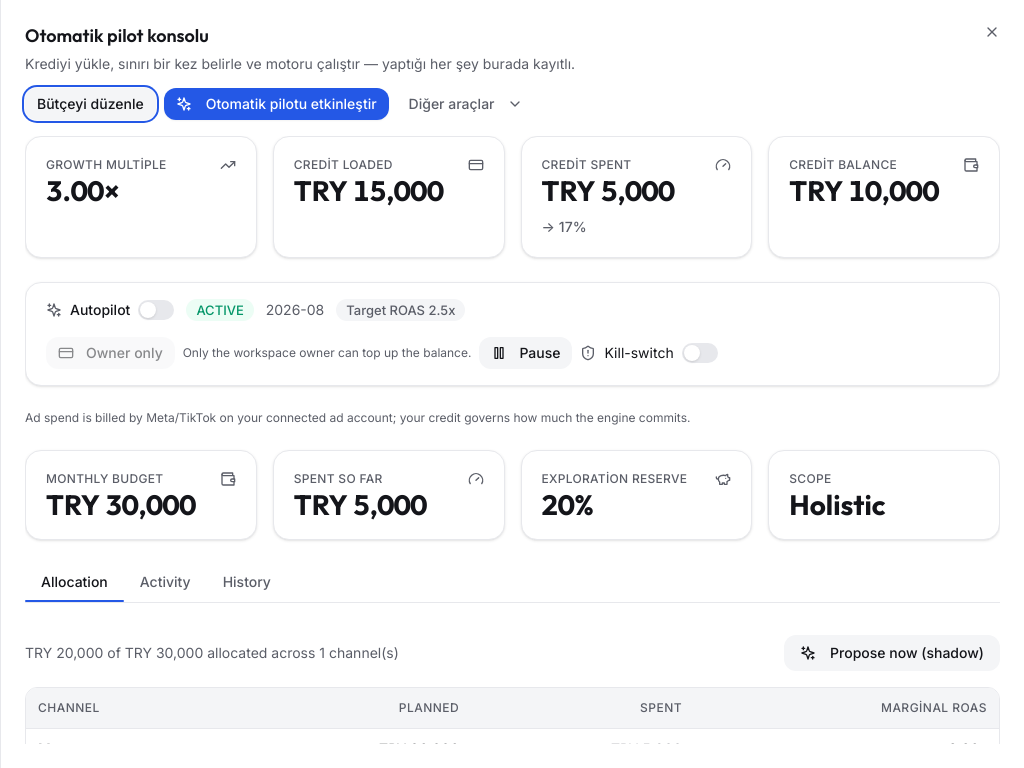
it: StudioToolsDrawer › lists every deep link, with its exact href
Click the button "Diğer araçlar" at (466, 104), box [397,88,534,120]
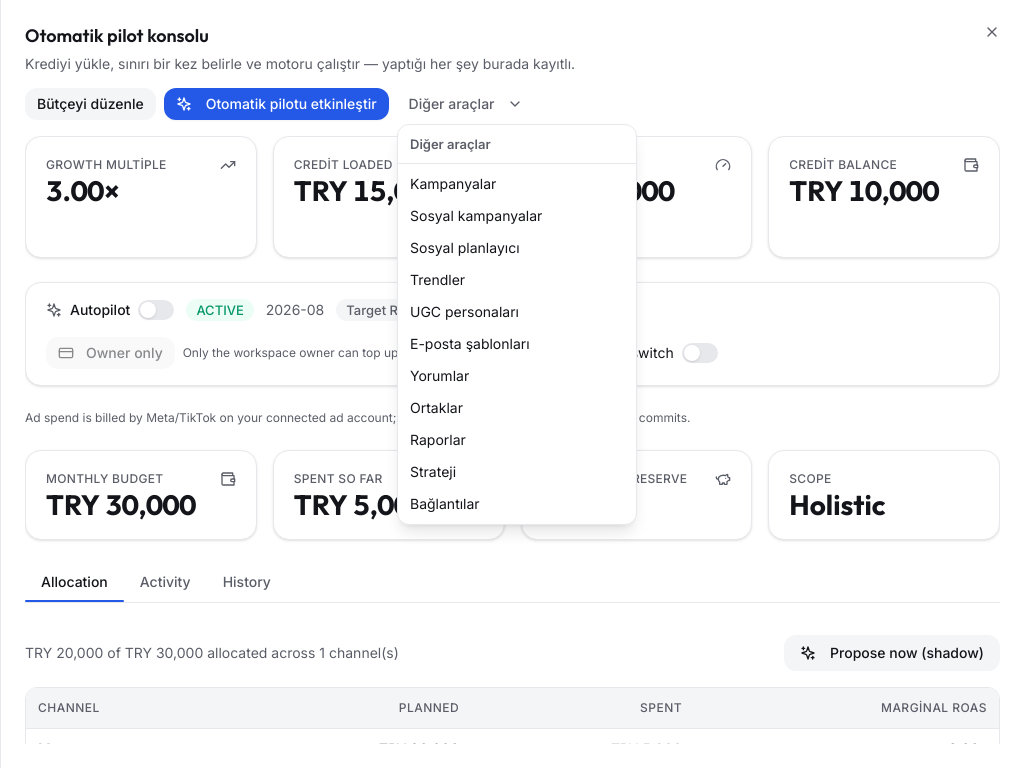
Expected: the number of menu items is 11
